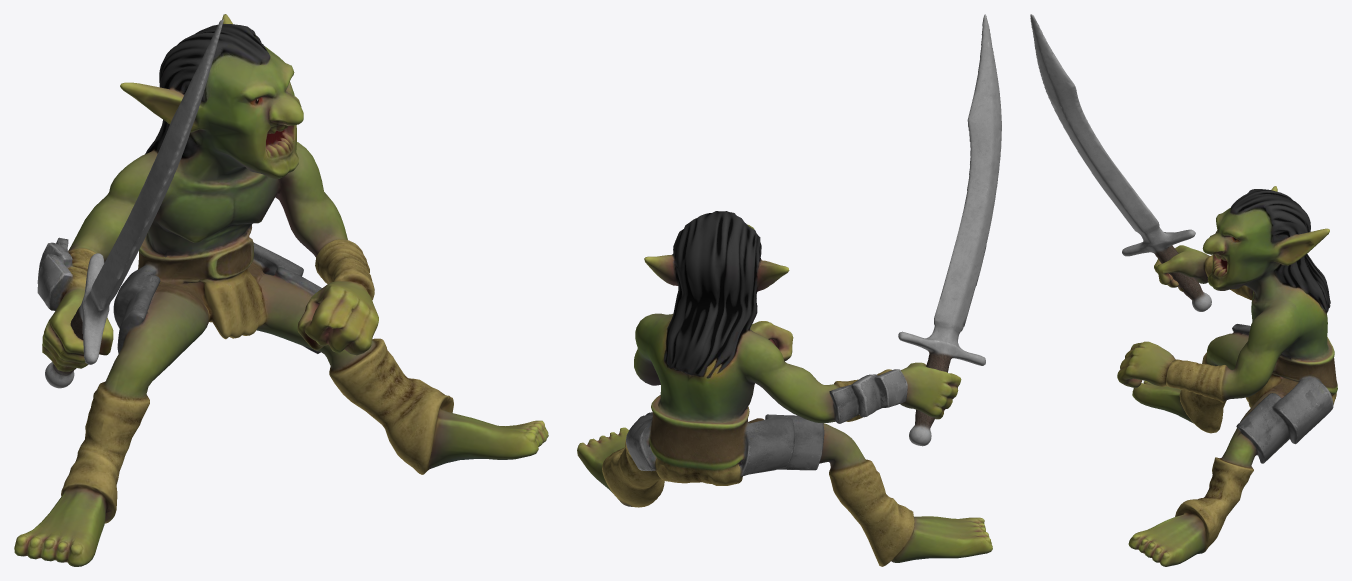
File: MZ4250 - Goblin Rider.glb
3 views of the same model, side by side, from view 1: azimuth 30°, elevation 25°; view 2: azimuth 150°, elevation 25°; view 3: azimuth 270°, elevation 25° (orthographic). The views are drawn at different scales.
Visible parts, largest first — view 1: Goblin_low.001, Scimitar 2_low.001; view 2: Goblin_low.001, Scimitar 2_low.001; view 3: Goblin_low.001, Scimitar 2_low.001.
Part boxes in pixels (bbox=[...]): Goblin_low.001: bbox=[14, 14, 548, 566]; Scimitar 2_low.001: bbox=[45, 19, 223, 388]; Goblin_low.001: bbox=[577, 211, 992, 566]; Scimitar 2_low.001: bbox=[898, 14, 1001, 446]; Goblin_low.001: bbox=[1117, 186, 1337, 566]; Scimitar 2_low.001: bbox=[1030, 14, 1211, 311].
Size of the model in its own units: 8.61 by 9.6 by 6.24.
Materials: 2 (2 with a texture image).
